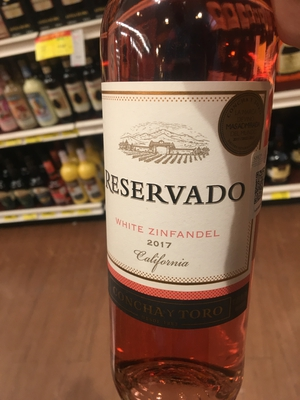reservado white zinfandel: (84, 10, 268, 374)
